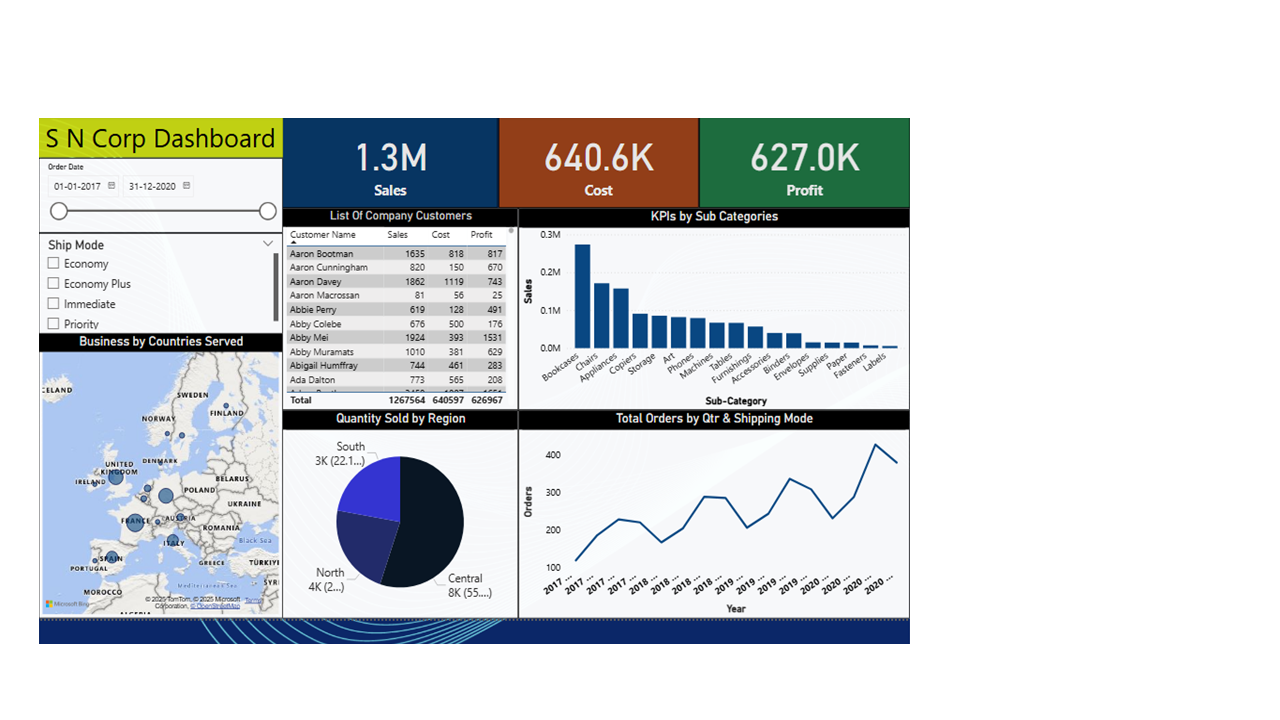

This screenshot's page, from the dashboard's own definition file:
{"tool":"powerbi","page":{"name":"Page 1","canvas":[1280,720],"ordinal":0},"visuals":[{"type":"card","fields":{"Values":["List of Orders.Sales"]},"box":[358.5,0,317.4,132.2],"z":0},{"type":"tableEx","title":"List Of Company Customers","fields":{"Values":["List of Orders.Customer Name","List of Orders.Sales","List of Orders.Cost","List of Orders.Profit"]},"box":[358.5,132.2,346.8,289.5],"z":1000},{"type":"columnChart","title":"KPIs by Sub Categories","fields":{"Category":["List of Orders.Sub-Category"],"Y":["List of Orders.Sales"]},"box":[705.3,132.2,574.5,289.5],"z":2000},{"type":"card","fields":{"Values":["List of Orders.Cost"]},"box":[675.9,0,293.9,132.2],"z":3000},{"type":"card","fields":{"Values":["List of Orders.Profit"]},"box":[969.8,0,310,132.2],"z":4000},{"type":"pieChart","title":"Quantity Sold by Region","fields":{"Category":["List of Orders.Region"],"Y":["List of Orders.Quantity"]},"box":[358.5,421.7,346.8,298.3],"z":5000},{"type":"lineChart","title":"Total Orders by Qtr & Shipping Mode","fields":{"Y":["List of Orders.Order ID"],"Category":["List of Orders.Order Date.Variation.Date Hierarchy.Year","List of Orders.Order Date.Variation.Date Hierarchy.Quarter"]},"box":[705.3,421.7,574.5,298.3],"z":6000},{"type":"map","title":"Business by Countries Served","fields":{"Category":["List of Orders.Country"],"Size":["List of Orders.Sales"]},"box":[0,311.5,358.5,408.5],"z":7000},{"type":"textbox","box":[0,0,358.5,60.2],"z":8000},{"type":"slicer","fields":{"Values":["List of Orders.Order Date"]},"box":[0,60.2,358.5,107.3],"z":9000},{"type":"slicer","fields":{"Values":["List of Orders.Ship Mode"]},"box":[0,167.5,358.5,144],"z":10000}]}

Visuals, with their boxes on the page's 1280x720 design canvas (x1, y1, x2, y2). These are canvas units, not pixel positions in the 1280x720 screenshot, which may show the page scaled, cropped or inside an application window:
card - List of Orders.Sales: 358 0 676 132
"List Of Company Customers" tableEx: 358 132 705 422
"KPIs by Sub Categories" columnChart: 705 132 1280 422
card - List of Orders.Cost: 676 0 970 132
card - List of Orders.Profit: 970 0 1280 132
"Quantity Sold by Region" pieChart: 358 422 705 720
"Total Orders by Qtr & Shipping Mode" lineChart: 705 422 1280 720
"Business by Countries Served" map: 0 312 358 720
textbox: 0 0 358 60
slicer - List of Orders.Order Date: 0 60 358 168
slicer - List of Orders.Ship Mode: 0 168 358 312
